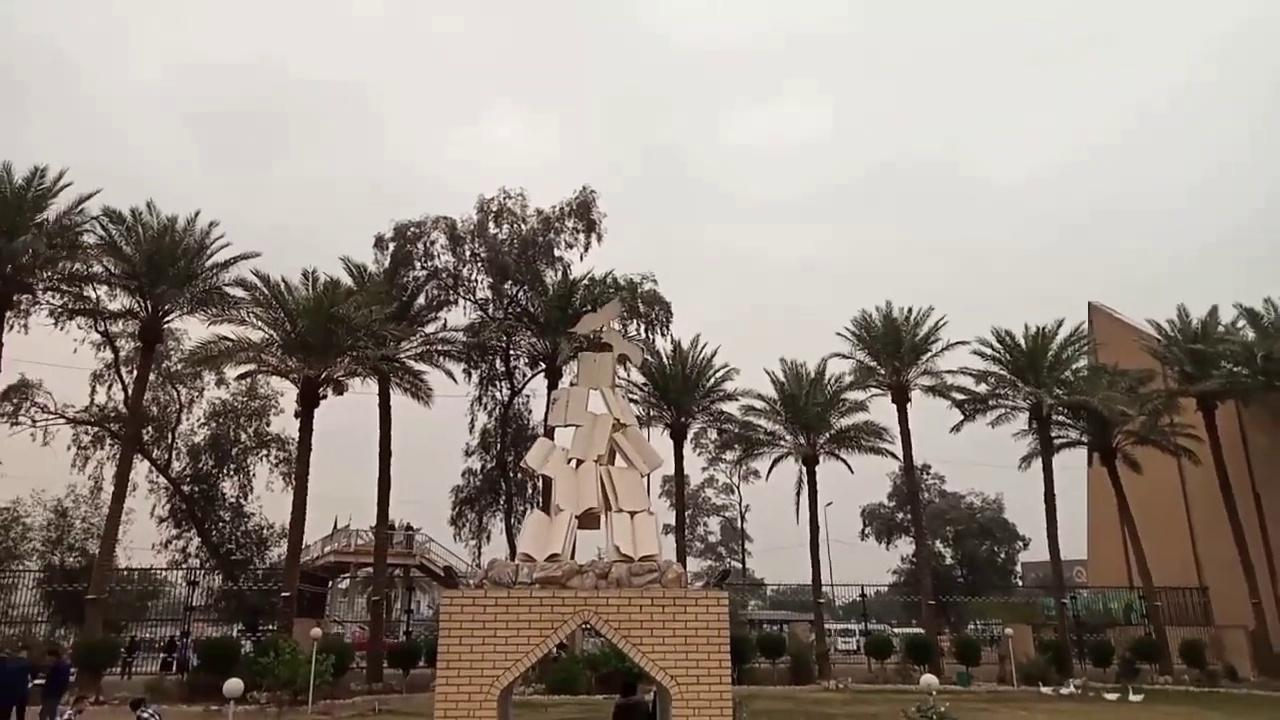person: (37, 648, 71, 719), (0, 652, 36, 719), (173, 629, 193, 681), (118, 634, 140, 680), (128, 696, 162, 719), (158, 634, 177, 674), (60, 694, 89, 719), (403, 522, 414, 549), (387, 520, 396, 548)
tree: (1, 196, 264, 646), (372, 182, 673, 567), (184, 262, 389, 637), (945, 316, 1104, 679), (330, 250, 462, 684), (725, 354, 897, 679), (826, 298, 971, 676), (1042, 358, 1205, 681), (0, 157, 104, 637), (514, 297, 664, 564), (860, 461, 1029, 673), (615, 331, 744, 583), (0, 158, 103, 370), (1218, 293, 1279, 620), (1220, 293, 1279, 393), (68, 632, 122, 703), (385, 636, 424, 693), (1127, 632, 1163, 683), (950, 631, 982, 686), (755, 628, 786, 684), (901, 632, 937, 679), (1177, 635, 1209, 686), (862, 631, 894, 672), (1086, 638, 1115, 673)
